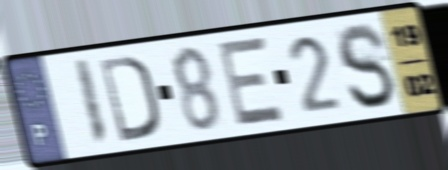2: (287, 34, 345, 116)
8: (172, 45, 222, 135)
D: (96, 52, 161, 145)
E: (216, 33, 288, 130)
I: (71, 56, 111, 150)
S: (334, 21, 398, 113)
